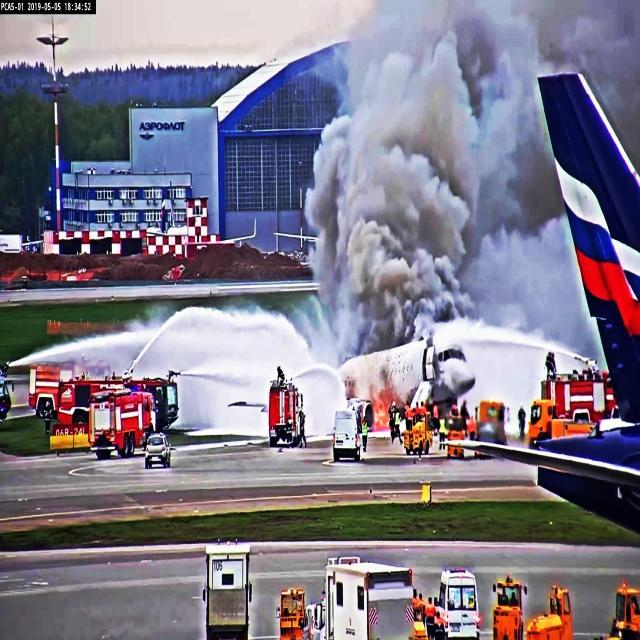Smoke: (309, 0, 504, 280)
